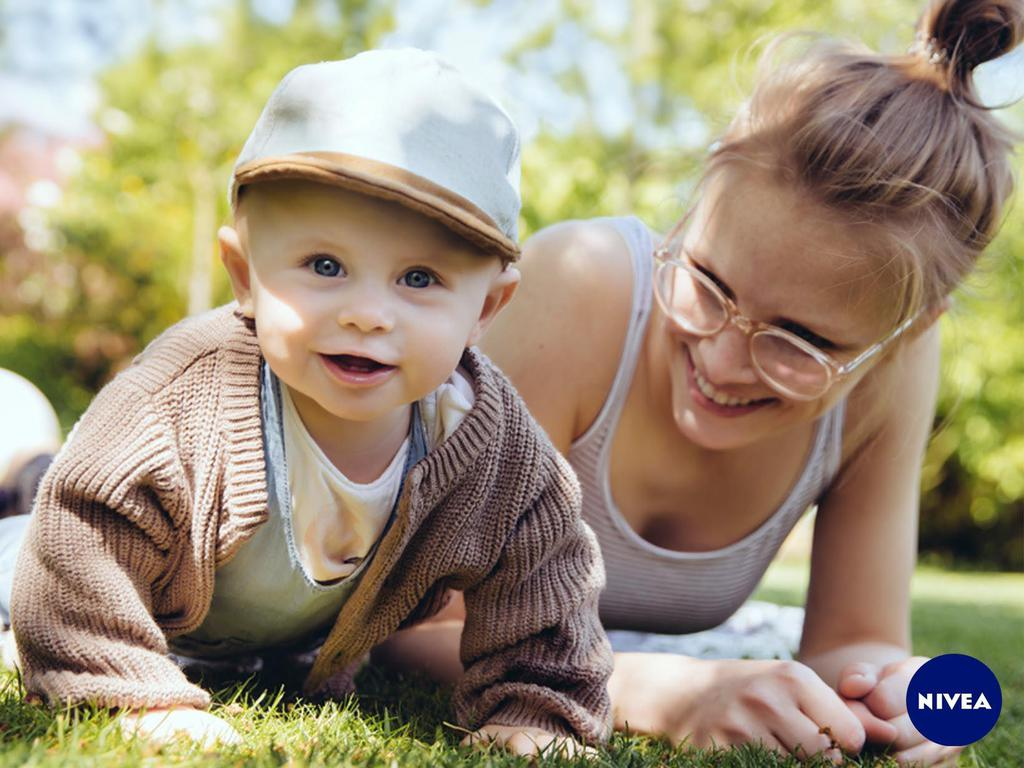child: (47, 54, 595, 754)
